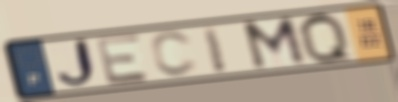C: (148, 30, 202, 78)
E: (93, 32, 153, 87)
I: (199, 24, 230, 75)
J: (53, 36, 101, 90)
M: (239, 15, 310, 73)
Q: (296, 12, 359, 66)
